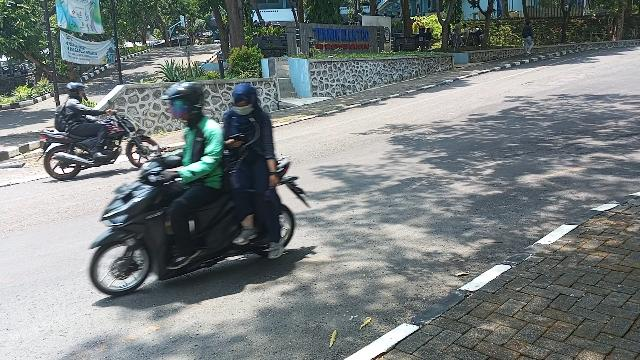helm: (162, 83, 206, 121), (69, 84, 89, 99)
motor: (90, 163, 313, 298), (39, 123, 145, 180)
non-helm: (234, 85, 258, 115)
